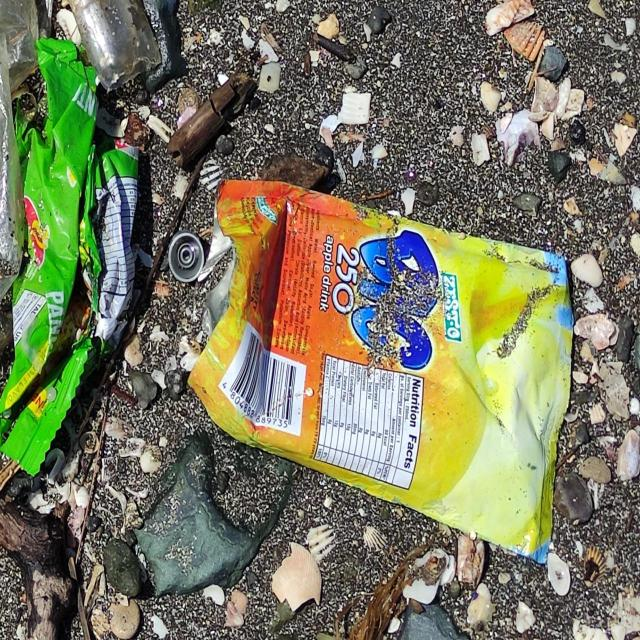plastic_waste: (188, 177, 577, 567), (1, 36, 143, 478), (168, 232, 206, 284)
